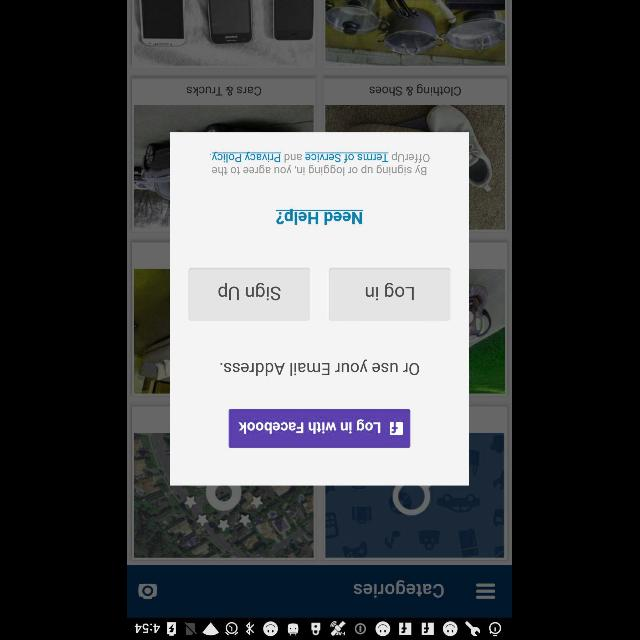icon: (138, 583, 158, 599), (476, 583, 496, 599)
image: (132, 0, 316, 68), (326, 0, 506, 66)
panel: (170, 132, 470, 486)
text: (210, 151, 430, 175), (222, 359, 420, 375), (355, 580, 445, 598), (371, 84, 462, 96), (187, 86, 261, 95)
textbutton: (230, 408, 410, 448), (189, 268, 311, 320), (329, 268, 451, 320), (276, 209, 364, 225)
uppertaskbar: (128, 617, 512, 639)
